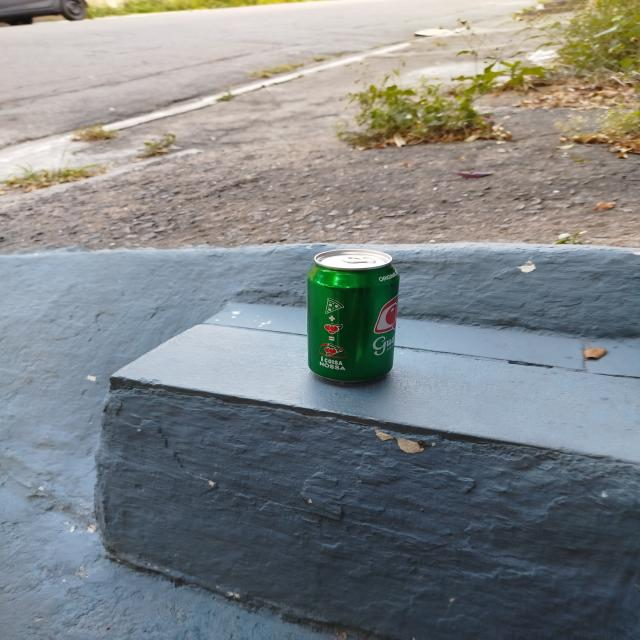Guarana: (303, 249, 398, 379)
